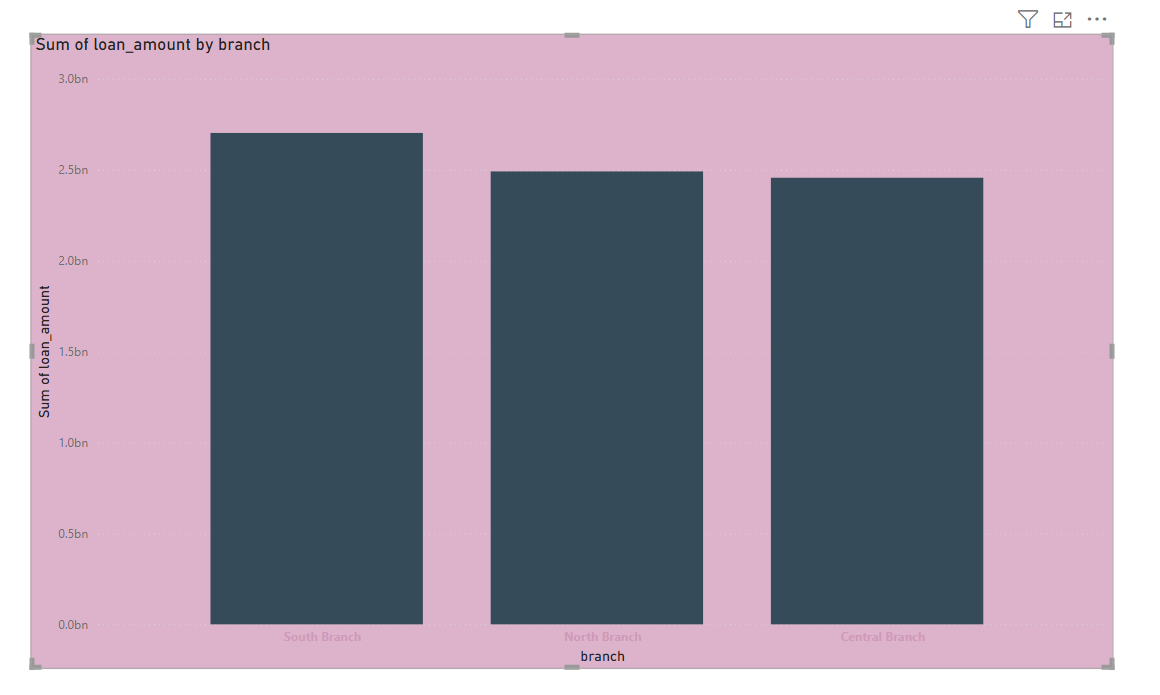

This screenshot's page, from the dashboard's own definition file:
{"tool":"powerbi","page":{"name":"Total Loan Amount by Branch","canvas":[1280,720],"ordinal":3},"visuals":[{"type":"clusteredColumnChart","fields":{"Category":["banking_analytics loan_performance.branch"],"Y":["Sum(banking_analytics loan_performance.loan_amount)"]},"box":[135.2,52.8,1061.2,623.1],"z":0}]}

Visuals, with their boxes on the page's 1280x720 design canvas (x1, y1, x2, y2). These are canvas units, not pixel positions in the 1160x695 screenshot, which may show the page scaled, cropped or inside an application window:
clusteredColumnChart - banking_analytics loan_performance.branch x Sum(banking_analytics loan_performance.loan_amount): select_region(135, 53, 1196, 676)
